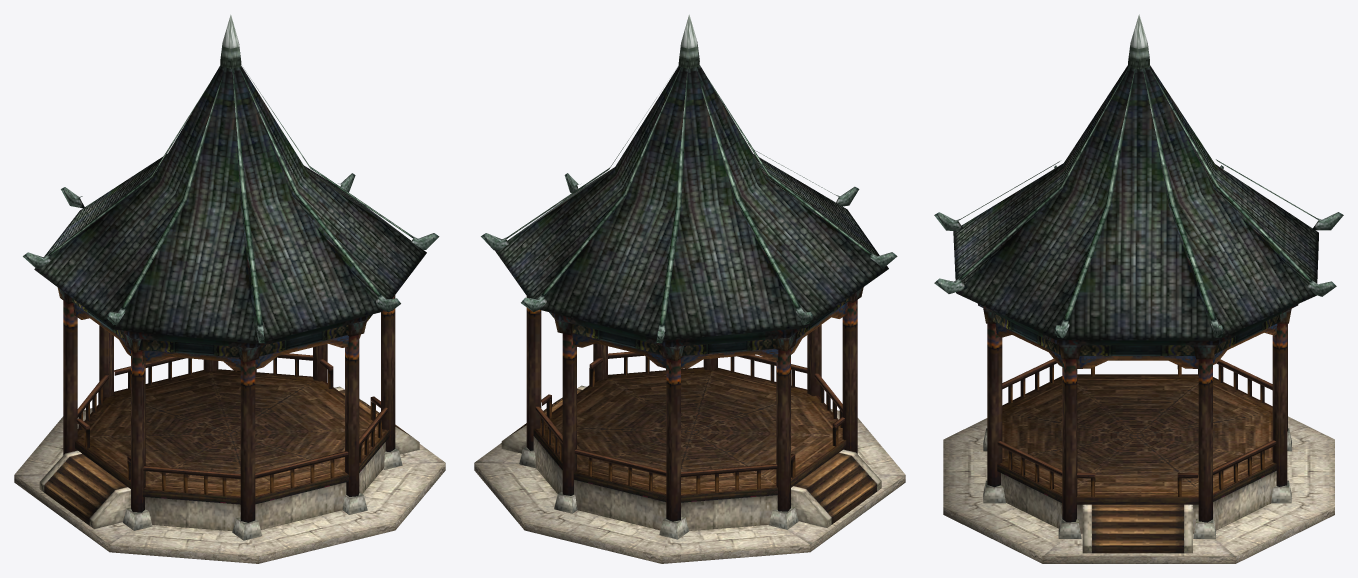
File: c1-001-house3_lod_01.glb
3 views of the same model, side by side, from view 1: azimuth 30°, elevation 25°; view 2: azimuth 150°, elevation 25°; view 3: azimuth 270°, elevation 25° (orthographic).
Visible parts, largest first — view 1: c1-001-house3; view 2: c1-001-house3; view 3: c1-001-house3.
Boxes of the visible parts, box(x1,y1,x2,y2) form: c1-001-house3: box(14, 14, 445, 563); c1-001-house3: box(474, 14, 905, 563); c1-001-house3: box(934, 14, 1343, 563).
Size of the model in its own units: 8.16 by 10.72 by 8.52.
Materials: 1 (1 with a texture image).
